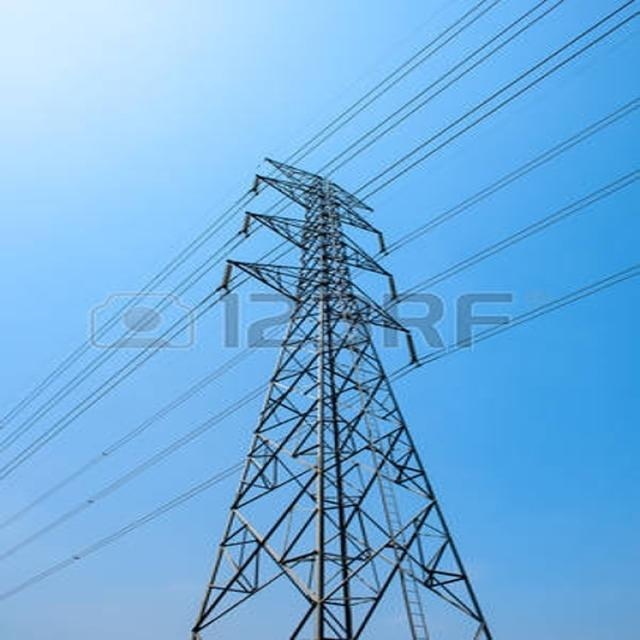non-critical vegetation: (157, 170, 501, 634)
